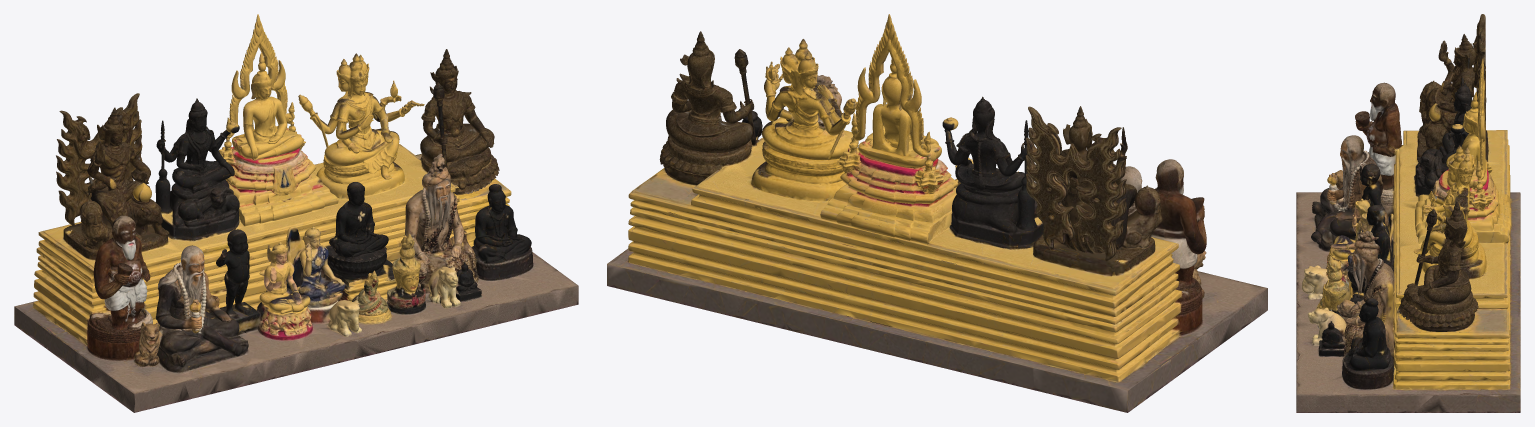
Rendered from altarrow.glb.
The picture shows the model from 3 angles, left to right: view 1: azimuth 30°, elevation 25°; view 2: azimuth 150°, elevation 25°; view 3: azimuth 270°, elevation 25°; orthographic projection. The views are drawn at different scales.
Size of the model in its own units: 1.9 by 1.11 by 0.889.
Materials: 1 (1 with a texture image).
